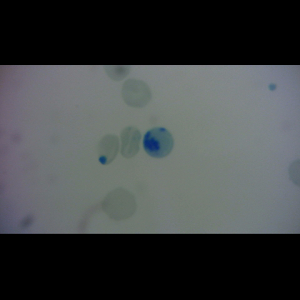aggregate reticulocyte: (142, 127, 175, 159)
erythrocyte: (101, 187, 137, 221), (120, 78, 154, 109), (118, 127, 143, 160), (96, 133, 120, 167)
